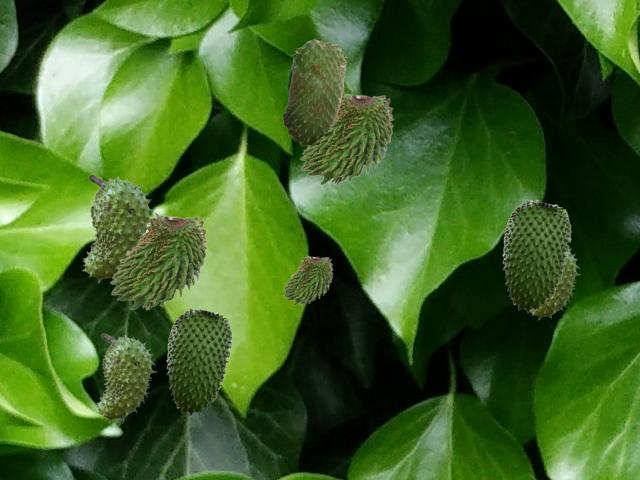guyabano: (109, 211, 207, 309), (299, 90, 393, 184), (81, 174, 153, 282), (502, 199, 570, 312), (166, 307, 231, 415), (282, 38, 346, 146), (95, 333, 156, 422), (530, 247, 580, 319), (282, 254, 332, 304)
